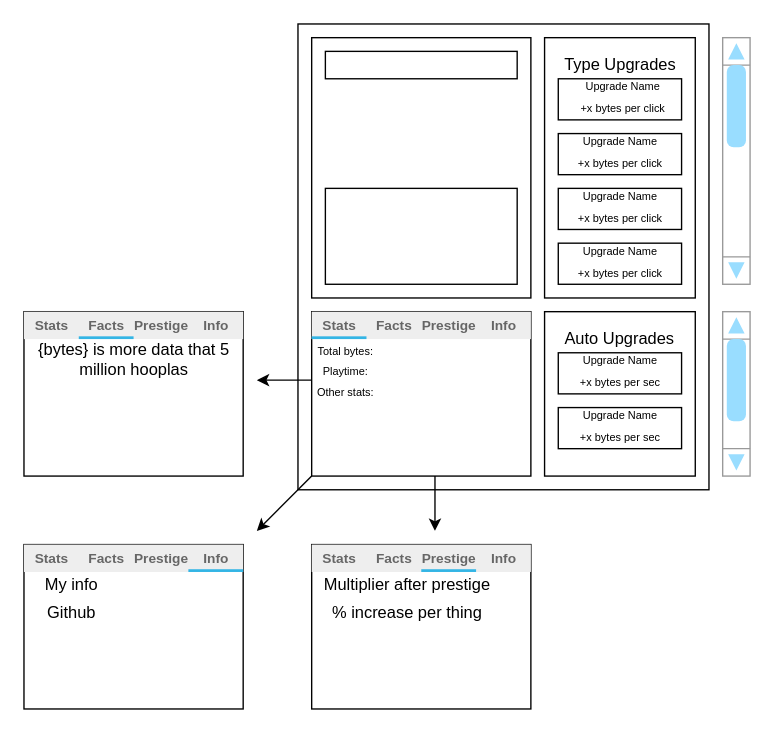
Image size: 774x733. Some labels were removed from this diagram. The centre of each missing label's shape, as x and y in pixels:
Bytes: (420,64)
Keyboard: (420,235)
